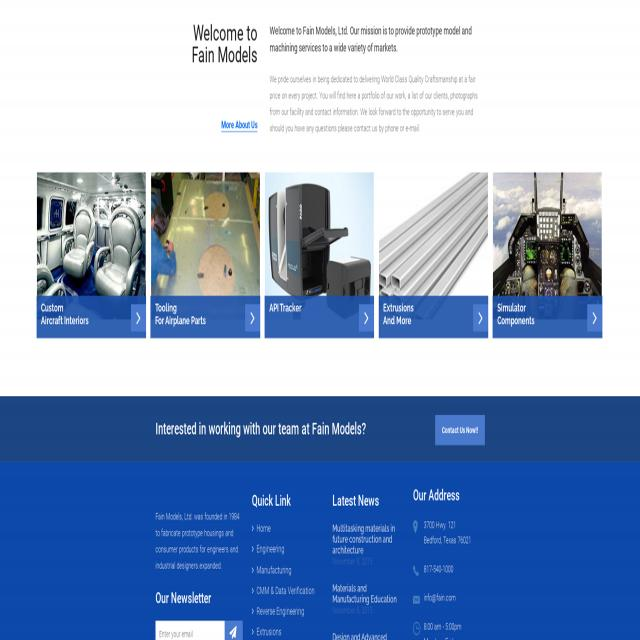button: (36, 172, 146, 338), (150, 172, 260, 338), (265, 172, 374, 338), (378, 174, 488, 338), (493, 173, 602, 338), (435, 415, 485, 446), (131, 304, 146, 331), (245, 304, 260, 331), (359, 304, 374, 331), (225, 620, 244, 640), (588, 304, 602, 331), (474, 304, 488, 331)
field: (156, 620, 224, 640)
